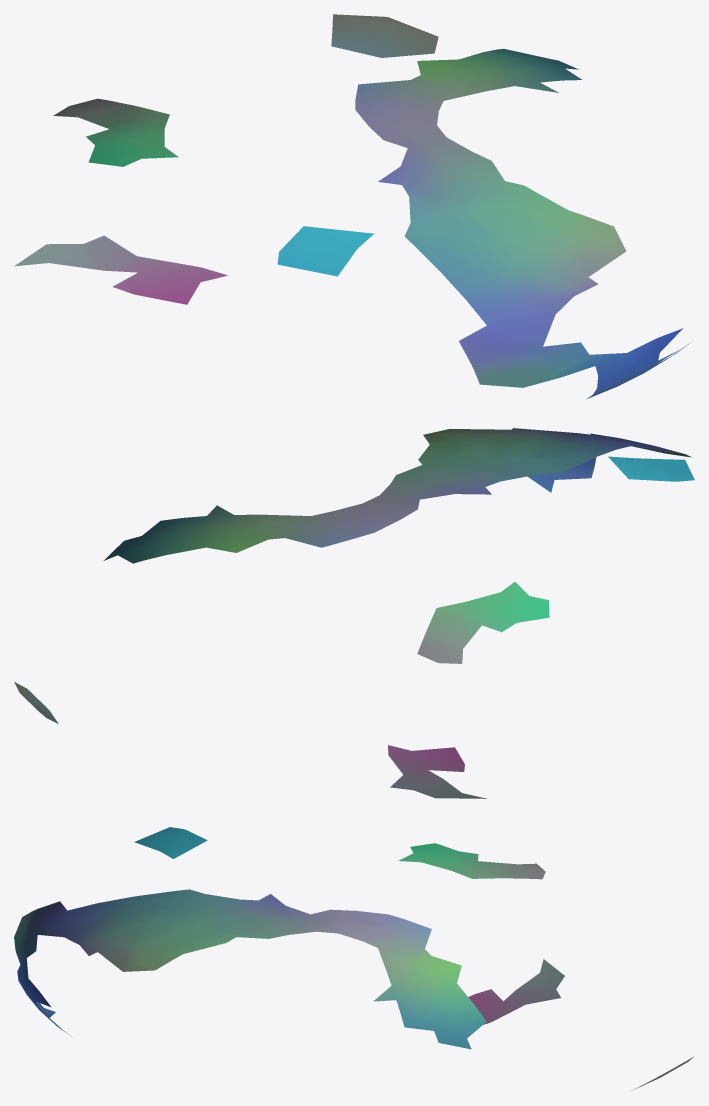
Rendered from space-galaxies-irregular-galaxy_v11.glb.
3 views of the same model, one above another, from view 1: azimuth 30°, elevation 25°; view 2: azimuth 150°, elevation 25°; view 3: azimuth 270°, elevation 25° (orthographic). The views are drawn at different scales.
Parts seen in each view (by area): view 1: Irregular Galaxy_v11; view 2: Irregular Galaxy_v11; view 3: Irregular Galaxy_v11.
Boxes of the visible parts, bbox=[...] form: Irregular Galaxy_v11: bbox=[14, 14, 690, 399]; Irregular Galaxy_v11: bbox=[14, 428, 694, 798]; Irregular Galaxy_v11: bbox=[14, 827, 693, 1091].
Bounding box in the file's own units: 0.3117 × 0.1235 × 0.5.
